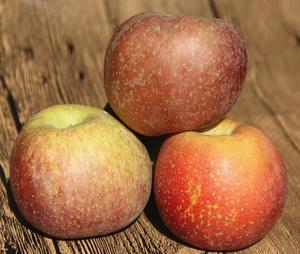apple: (6, 104, 150, 239), (104, 11, 248, 136), (152, 119, 290, 249)
